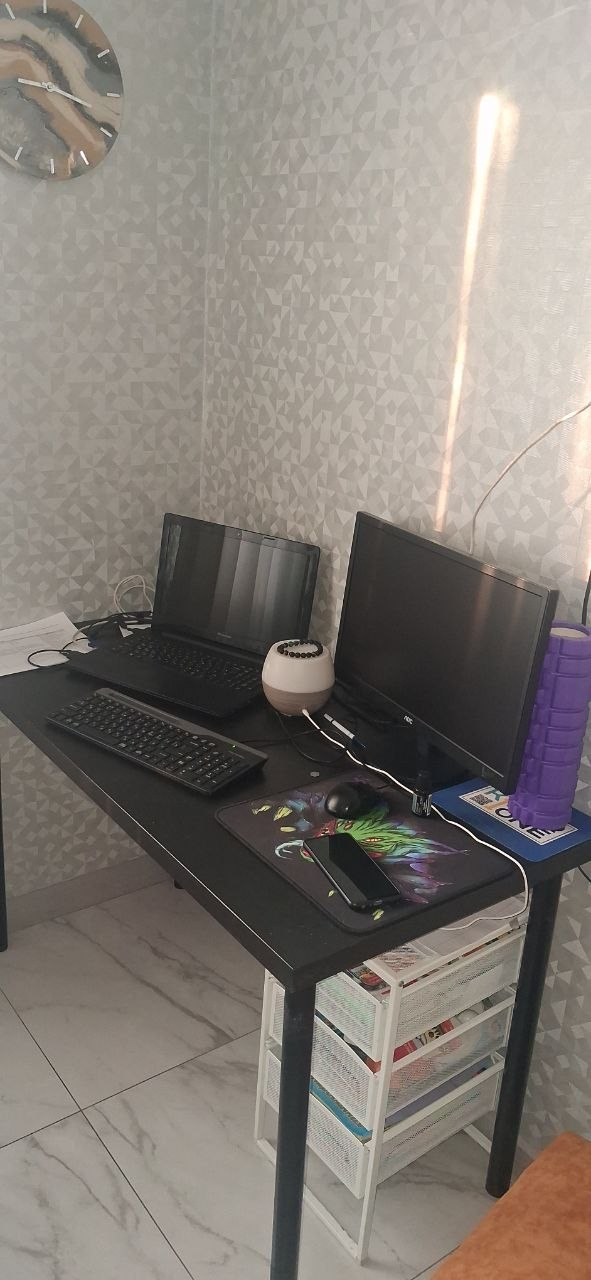cell phone: (302, 832, 400, 912)
laptop: (64, 511, 321, 720)
